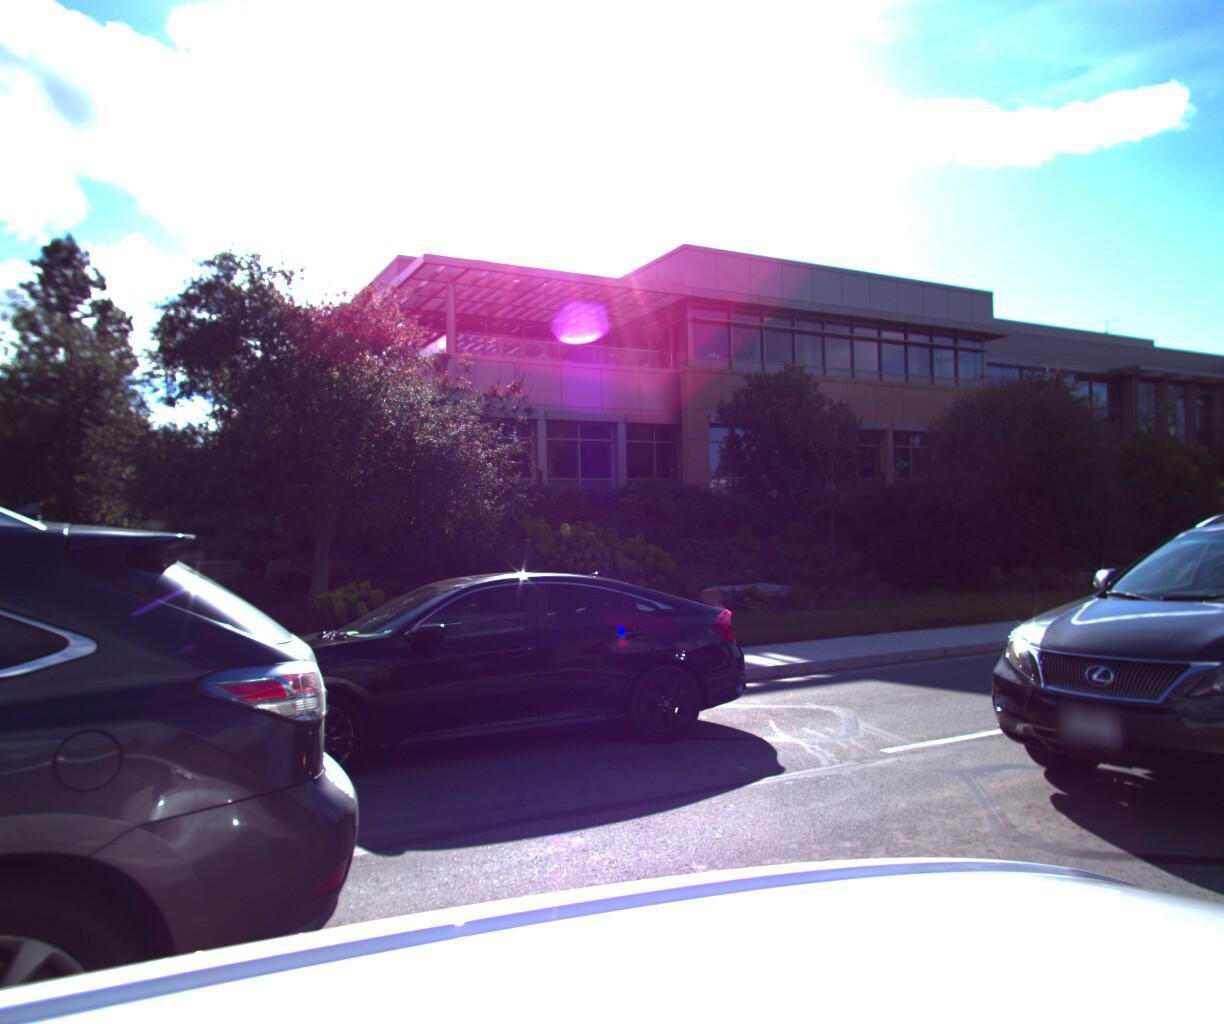car: (0, 0, 437, 1024), (143, 543, 767, 818), (936, 491, 1224, 878)
